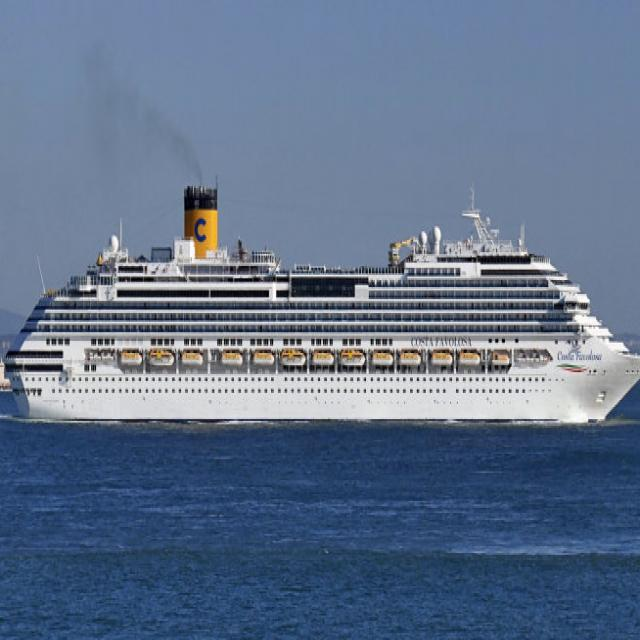cruises: (1, 166, 640, 434)
